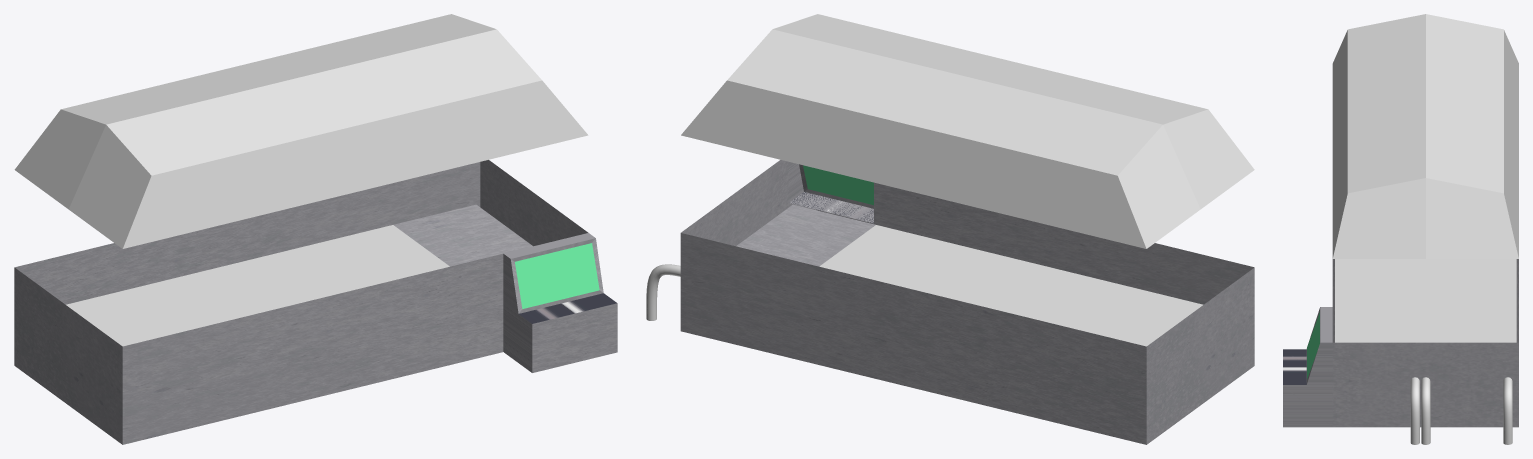
Rendered from incubator_closed.fbx.
The picture shows the model from 3 angles, left to right: view 1: azimuth 30°, elevation 25°; view 2: azimuth 150°, elevation 25°; view 3: azimuth 270°, elevation 25°; orthographic projection. The views are drawn at different scales.
Visible parts, largest first — view 1: incubators, incubators.001, incubators.004, incubators.002, incubators.003; view 2: incubators, incubators.001, incubators.004, incubators.002, BézierCurve.002; view 3: incubators.001, incubators, incubators.004, incubators.003, BézierCurve, BézierCurve.002, BézierCurve.001, incubators.002.
Boxes of the visible parts, x1,y1,x2,y2 form: incubators: (14, 160, 617, 444); incubators.001: (14, 14, 588, 248); incubators.004: (66, 225, 449, 346); incubators.002: (515, 243, 599, 308); incubators.003: (519, 293, 616, 323); incubators: (680, 160, 1254, 444); incubators.001: (681, 14, 1254, 248); incubators.004: (819, 225, 1203, 346); incubators.002: (803, 165, 873, 205); BézierCurve.002: (646, 264, 680, 320); incubators.001: (1332, 14, 1518, 258); incubators: (1283, 259, 1518, 427); incubators.004: (1335, 259, 1516, 342); incubators.003: (1283, 349, 1306, 384); BézierCurve: (1421, 377, 1430, 444); BézierCurve.002: (1503, 377, 1512, 444); BézierCurve.001: (1410, 377, 1419, 444); incubators.002: (1307, 312, 1319, 379).
Size of the model in its own units: 1076 by 554 by 505.
5 materials, 2 textured.
